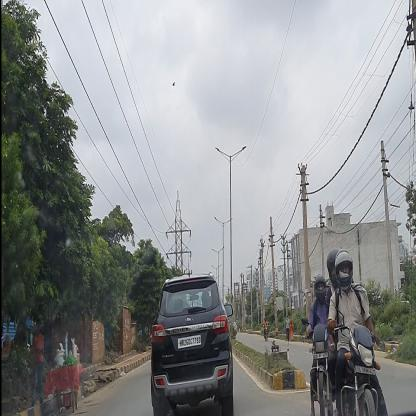car: (151, 274, 235, 416)
motorcycle: (327, 250, 389, 415), (301, 275, 334, 415), (263, 316, 268, 340)
